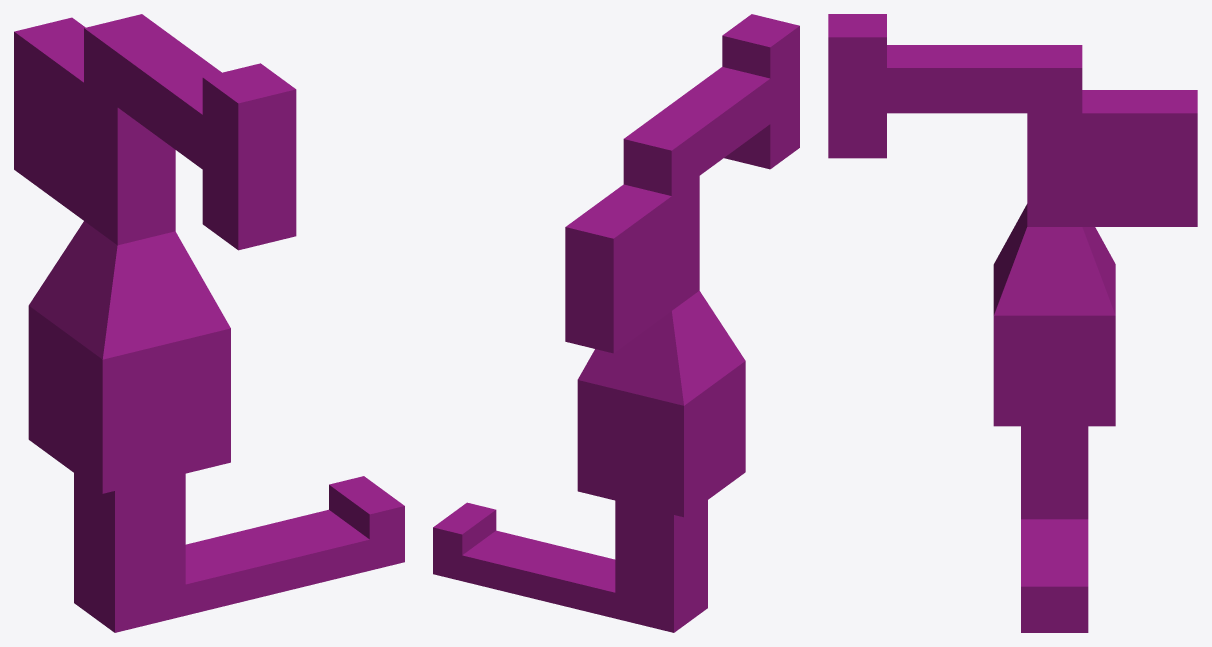
File: thing.obj
3 views of the same model, side by side, from view 1: azimuth 30°, elevation 25°; view 2: azimuth 150°, elevation 25°; view 3: azimuth 270°, elevation 25° (orthographic). The views are drawn at different scales.
Visible parts, largest first — view 1: Thing; view 2: Thing; view 3: Thing.
Part boxes in pixels (bbox=[...]): Thing: bbox=[14, 14, 404, 632]; Thing: bbox=[433, 14, 799, 632]; Thing: bbox=[828, 14, 1197, 632].
Bounding box in the file's own units: 4.97 × 9.15 × 6.06.
